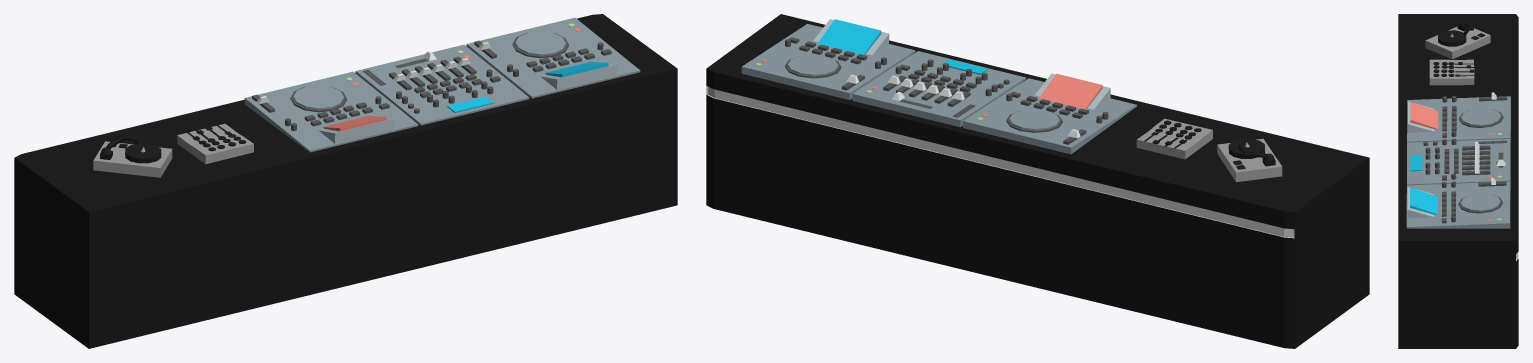
Rendered from DJTable.fbx.
3 views of the same model, side by side, from view 1: azimuth 30°, elevation 25°; view 2: azimuth 150°, elevation 25°; view 3: azimuth 270°, elevation 25° (orthographic). The views are drawn at different scales.
Visible parts, largest first — view 1: background.003; view 2: background.003; view 3: background.003.
Boxes of the visible parts, left/top/right/bottom form: background.003: left=14, top=14, right=677, bottom=348; background.003: left=706, top=14, right=1369, bottom=348; background.003: left=1398, top=14, right=1518, bottom=348.
Bounding box in the file's own units: 7.85 × 2.04 × 1.76.
